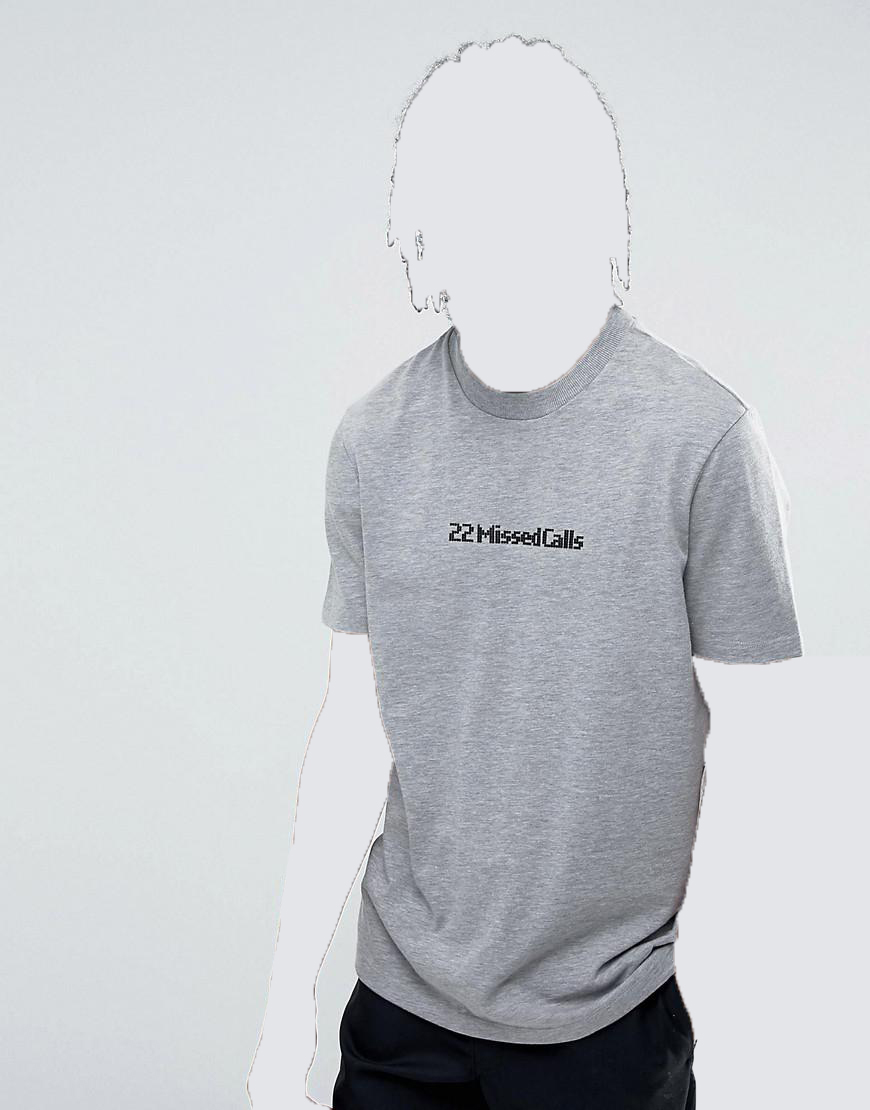teeshirt: (296, 307, 810, 1046)
